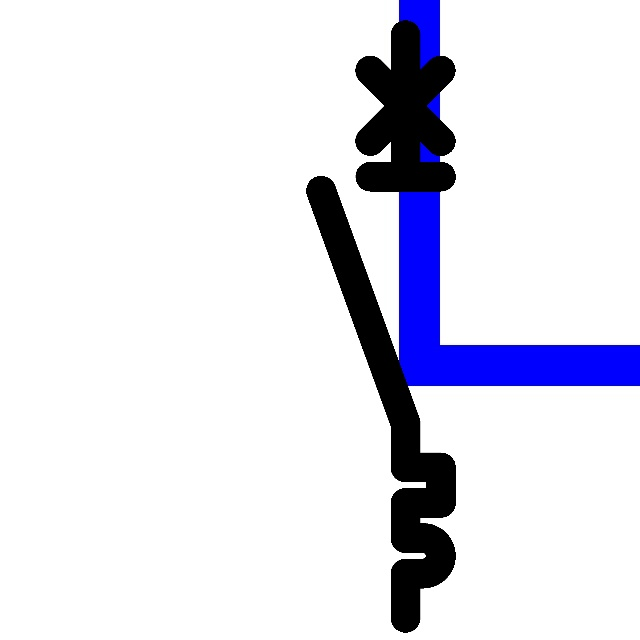interruptor_termomagnetico: (306, 20, 456, 633)
